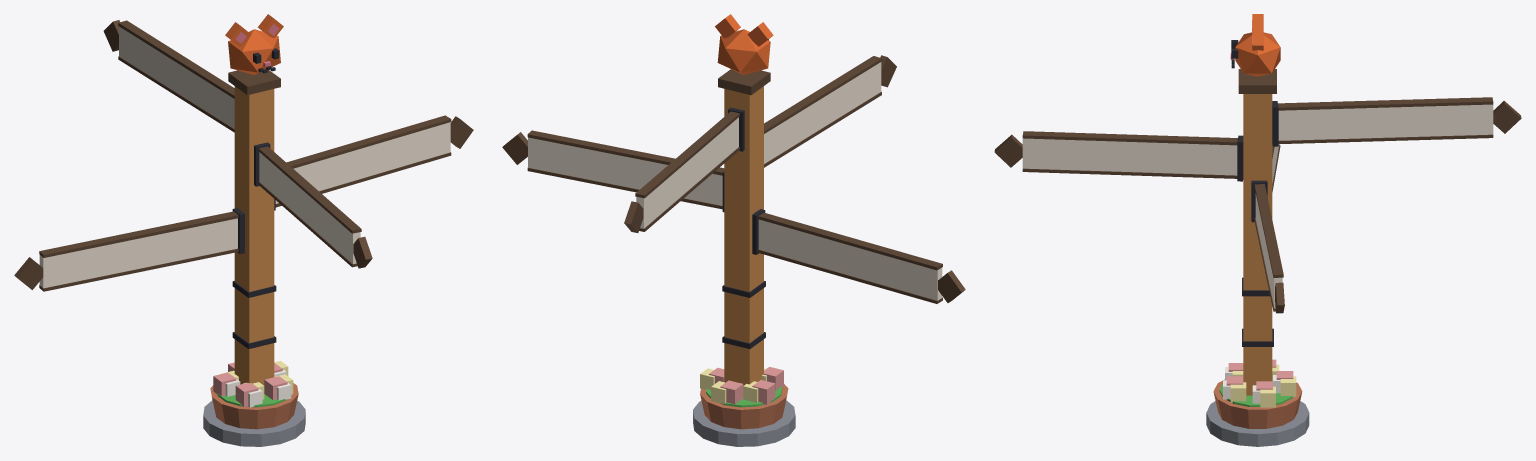
The model's file is CatCafe_Square_Signpost.glb.
The picture shows the model from 3 angles, left to right: view 1: azimuth 30°, elevation 25°; view 2: azimuth 150°, elevation 25°; view 3: azimuth 270°, elevation 25°; orthographic projection.
Visible parts, largest first — view 1: CatCafe_Square_Signpost, CatCafe_Square_Signpost_ArmCap, CatCafe_Square_Signpost_ArmSewer, CatCafe_Square_Signpost_ArmWoods, CatCafe_Square_Signpost_ArmNeighbourhood, CatCafe_Square_Signpost_ArmPark, CatCafe_Square_Signpost_Flowers; view 2: CatCafe_Square_Signpost, CatCafe_Square_Signpost_ArmCap, CatCafe_Square_Signpost_ArmSewer, CatCafe_Square_Signpost_ArmWoods, CatCafe_Square_Signpost_ArmPark, CatCafe_Square_Signpost_ArmNeighbourhood, CatCafe_Square_Signpost_Flowers; view 3: CatCafe_Square_Signpost, CatCafe_Square_Signpost_ArmCap, CatCafe_Square_Signpost_ArmPark, CatCafe_Square_Signpost_ArmNeighbourhood, CatCafe_Square_Signpost_Flowers, CatCafe_Square_Signpost_ArmWoods.
Boxes of the visible parts, left/top/right/bottom form: CatCafe_Square_Signpost: left=203, top=14, right=305, bottom=446; CatCafe_Square_Signpost_ArmCap: left=14, top=20, right=473, bottom=291; CatCafe_Square_Signpost_ArmSewer: left=39, top=218, right=237, bottom=288; CatCafe_Square_Signpost_ArmWoods: left=275, top=122, right=450, bottom=203; CatCafe_Square_Signpost_ArmNeighbourhood: left=119, top=26, right=234, bottom=128; CatCafe_Square_Signpost_ArmPark: left=259, top=152, right=360, bottom=264; CatCafe_Square_Signpost_Flowers: left=213, top=361, right=293, bottom=407; CatCafe_Square_Signpost: left=693, top=14, right=795, bottom=446; CatCafe_Square_Signpost_ArmCap: left=502, top=55, right=965, bottom=303; CatCafe_Square_Signpost_ArmSewer: left=758, top=219, right=942, bottom=300; CatCafe_Square_Signpost_ArmWoods: left=528, top=137, right=722, bottom=205; CatCafe_Square_Signpost_ArmPark: left=764, top=62, right=881, bottom=163; CatCafe_Square_Signpost_ArmNeighbourhood: left=636, top=117, right=738, bottom=228; CatCafe_Square_Signpost_Flowers: left=700, top=367, right=783, bottom=407; CatCafe_Square_Signpost: left=1206, top=14, right=1309, bottom=446; CatCafe_Square_Signpost_ArmCap: left=994, top=97, right=1521, bottom=313; CatCafe_Square_Signpost_ArmPark: left=1022, top=138, right=1237, bottom=175; CatCafe_Square_Signpost_ArmNeighbourhood: left=1278, top=104, right=1493, bottom=140; CatCafe_Square_Signpost_Flowers: left=1219, top=359, right=1296, bottom=407; CatCafe_Square_Signpost_ArmWoods: left=1255, top=193, right=1282, bottom=308.
Bounding box in the file's own units: 11.25 × 9.5 × 11.26.
1 material, 1 textured.
